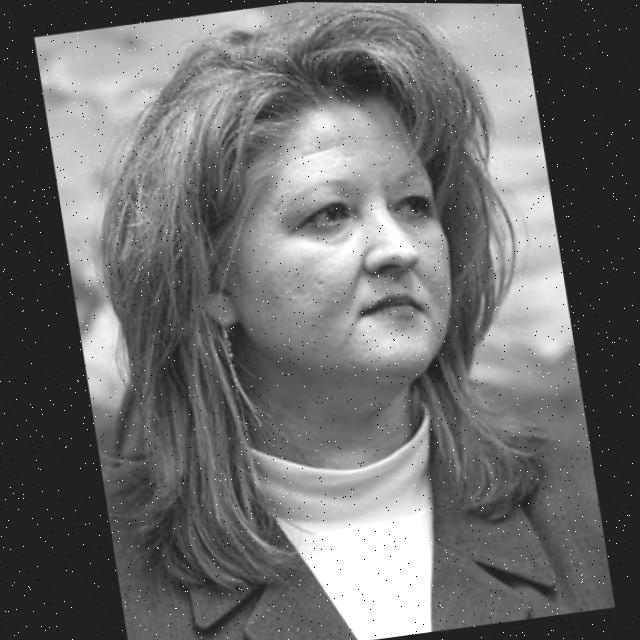face: (143, 70, 485, 449)
